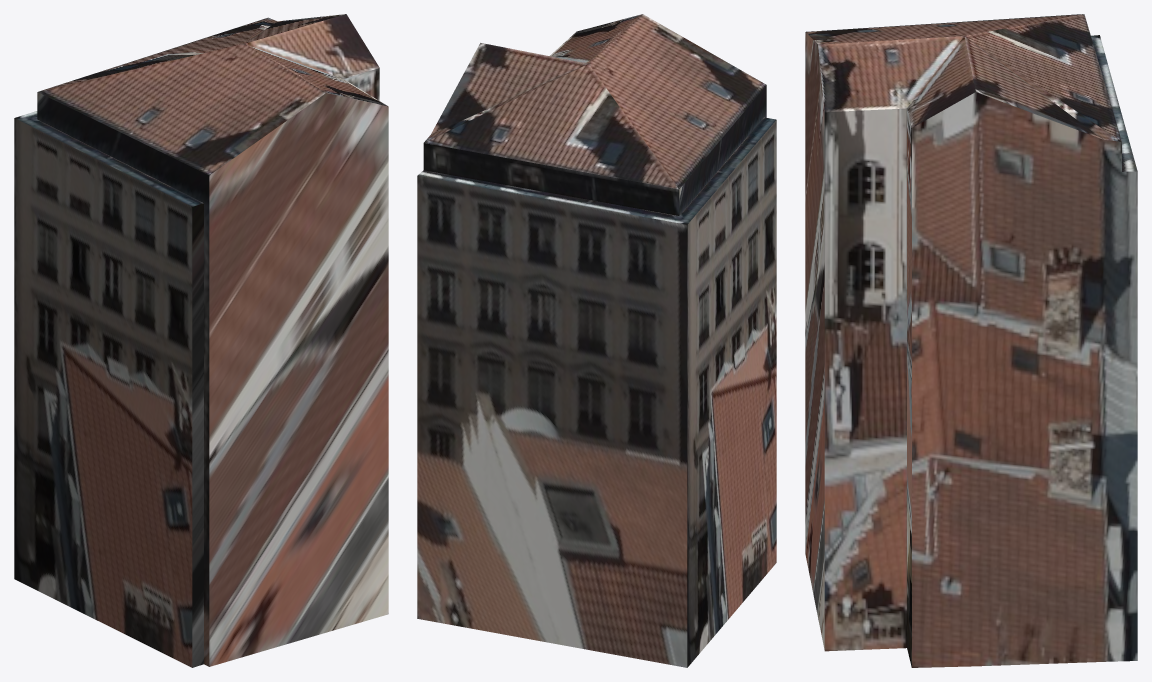
3 views of the same model, side by side, from view 1: azimuth 30°, elevation 25°; view 2: azimuth 150°, elevation 25°; view 3: azimuth 270°, elevation 25° (orthographic). The views are drawn at different scales.
Parts seen in each view (by area): view 1: Z_UP; view 2: Z_UP; view 3: Z_UP.
Boxes of the visible parts, x1=… form: Z_UP: x1=14, y1=14, x2=388, y2=667; Z_UP: x1=417, y1=14, x2=776, y2=667; Z_UP: x1=805, y1=14, x2=1137, y2=667.
Size of the model in its own units: 12.89 by 24.09 by 12.62.
2 materials, 1 textured.
